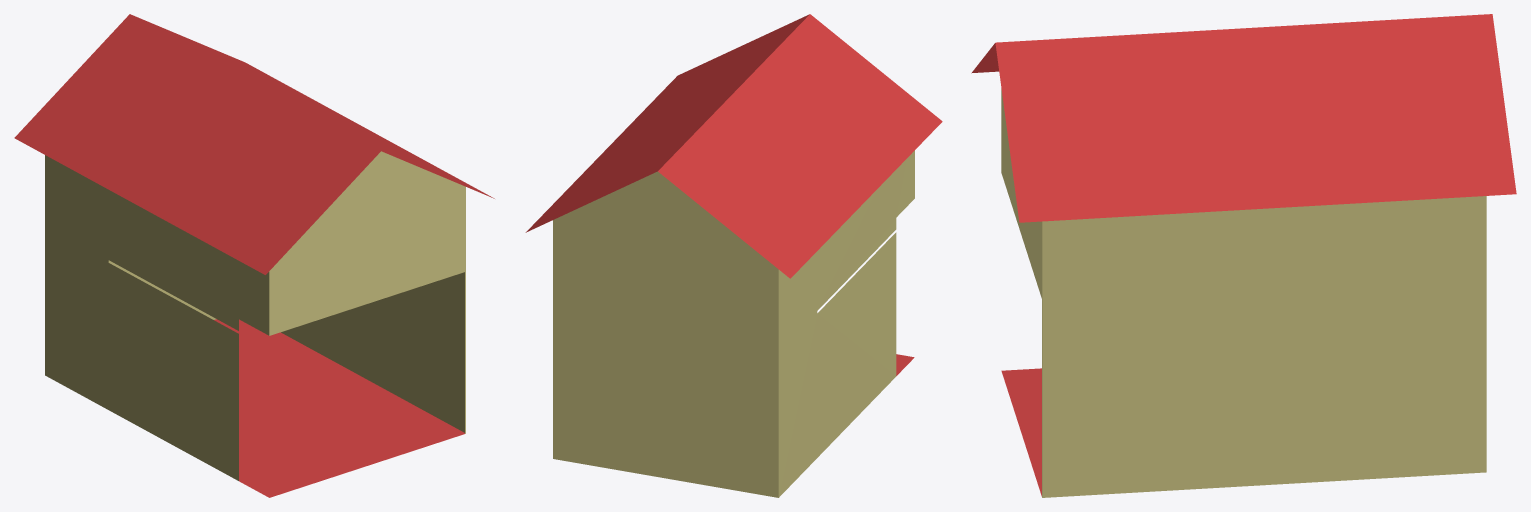
3 views of the same model, side by side, from view 1: azimuth 30°, elevation 25°; view 2: azimuth 150°, elevation 25°; view 3: azimuth 270°, elevation 25° (orthographic). The views are drawn at different scales.
Size of the model in its own units: 11.84 by 15.31 by 12.19.
